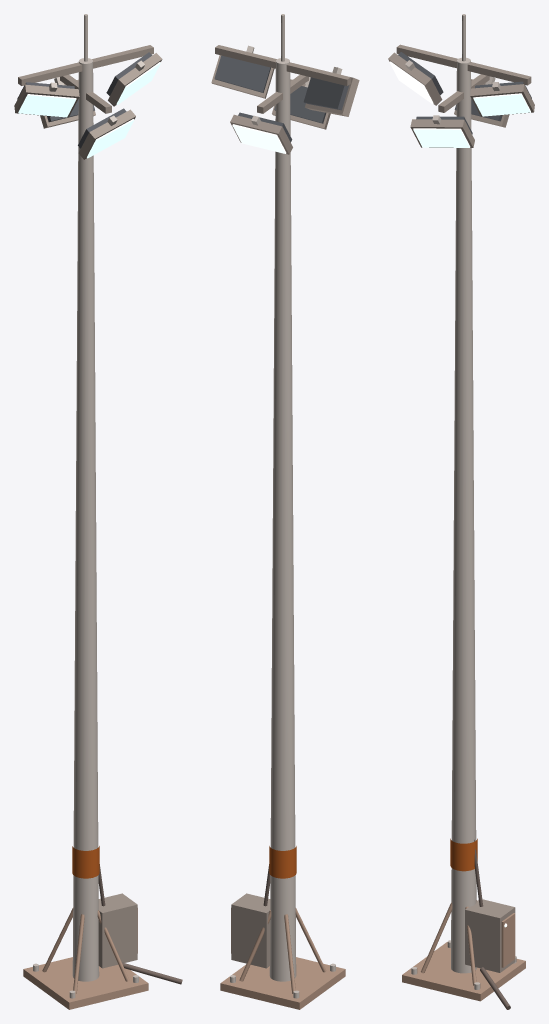
The model's file is D07_floodlight_mast_10m.glb.
The picture shows the model from 3 angles, left to right: view 1: azimuth 30°, elevation 25°; view 2: azimuth 150°, elevation 25°; view 3: azimuth 330°, elevation 25°; orthographic projection.
Parts seen in each view (by area): view 1: pole, base_plate, cable_box, led_face (×3), housing (×3), crossarm, marker_band, crossarm_lower; view 2: pole, base_plate, cooling_fin (×3), cable_box, housing (×3), crossarm, led_face, marker_band, crossarm_lower, base_gusset; view 3: pole, base_plate, cable_box, led_face (×3), housing (×3), crossarm, marker_band, cable_box_door, crossarm_lower.
Boxes of the visible parts, <box> form: pole: <box>72,58,99,981</box>; base_plate: <box>23,957,148,1009</box>; cable_box: <box>98,893,137,968</box>; led_face (×3): <box>18,62,160,158</box>; housing (×3): <box>14,53,162,159</box>; crossarm: <box>18,45,153,85</box>; marker_band: <box>72,846,99,878</box>; crossarm_lower: <box>60,74,111,113</box>; pole: <box>269,58,296,981</box>; base_plate: <box>220,957,345,1009</box>; cooling_fin (×3): <box>214,55,345,122</box>; cable_box: <box>231,893,270,968</box>; housing (×3): <box>211,55,359,154</box>; crossarm: <box>215,45,350,85</box>; led_face: <box>232,124,286,153</box>; marker_band: <box>269,846,296,878</box>; crossarm_lower: <box>257,74,308,113</box>; base_gusset: <box>284,914,295,993</box>; pole: <box>451,57,476,973</box>; base_plate: <box>402,942,525,1001</box>; cable_box: <box>465,899,515,972</box>; led_face (×3): <box>389,61,530,147</box>; housing (×3): <box>388,52,534,147</box>; crossarm: <box>396,44,531,85</box>; marker_band: <box>450,838,477,871</box>; cable_box_door: <box>501,913,515,967</box>; crossarm_lower: <box>438,74,489,112</box>.
Size of the model in its own units: 1.59 by 10.5 by 1.19.
